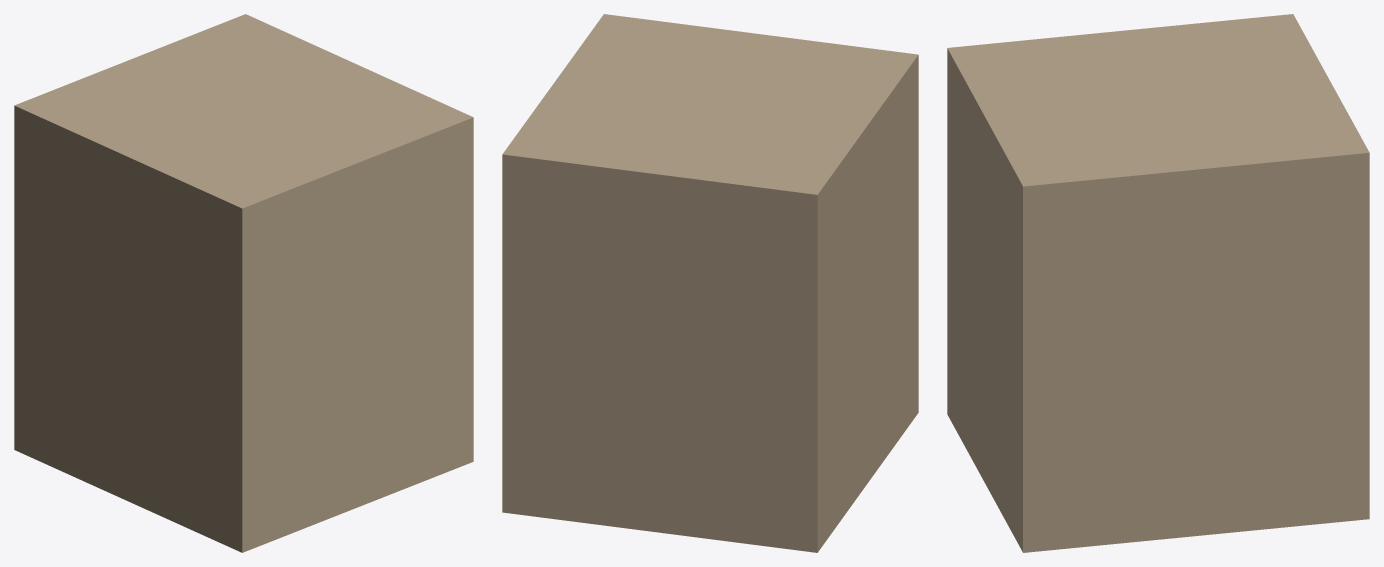
File: bld_106456331.dae
3 views of the same model, side by side, from view 1: azimuth 30°, elevation 25°; view 2: azimuth 150°, elevation 25°; view 3: azimuth 270°, elevation 25° (orthographic). The views are drawn at different scales.
Visible parts, largest first — view 1: bld_106456331; view 2: bld_106456331; view 3: bld_106456331.
Part boxes in pixels (x1,y1,x2,y2): bld_106456331: (14,14,473,552); bld_106456331: (502,14,918,552); bld_106456331: (947,14,1369,552).
Size of the model in its own units: 8.08 by 8.36 by 8.
